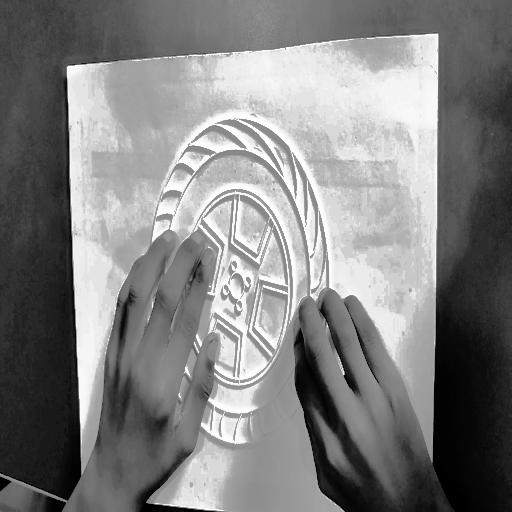bottom_left: (77, 491, 88, 507)
tire: (141, 104, 337, 460)
top_left: (64, 59, 73, 76)
top_right: (435, 27, 442, 40)
